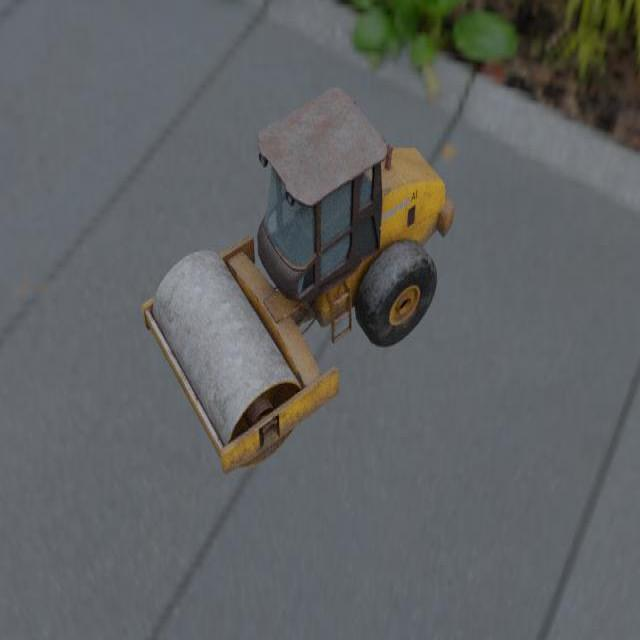Roller: (141, 88, 455, 475)
